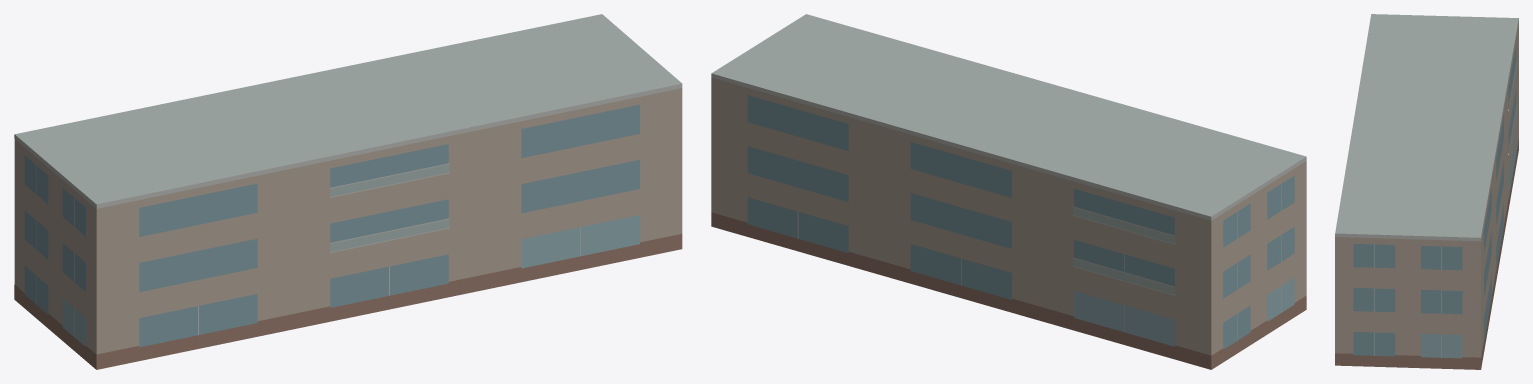
The model's file is survey-upis-32518872.glb.
3 renders of one model, left to right at view 1: azimuth 30°, elevation 25°; view 2: azimuth 150°, elevation 25°; view 3: azimuth 270°, elevation 25°, orthographic. The views are drawn at different scales.
Parts seen in each view (by area): view 1: survey-upis-32518872.tmp; view 2: survey-upis-32518872.tmp; view 3: survey-upis-32518872.tmp.
Part boxes in pixels (<box>): survey-upis-32518872.tmp: <box>14,14,682,369</box>; survey-upis-32518872.tmp: <box>711,14,1306,369</box>; survey-upis-32518872.tmp: <box>1335,14,1518,369</box>.
Bounding box in the file's own units: 33.25 × 9.15 × 11.55.
